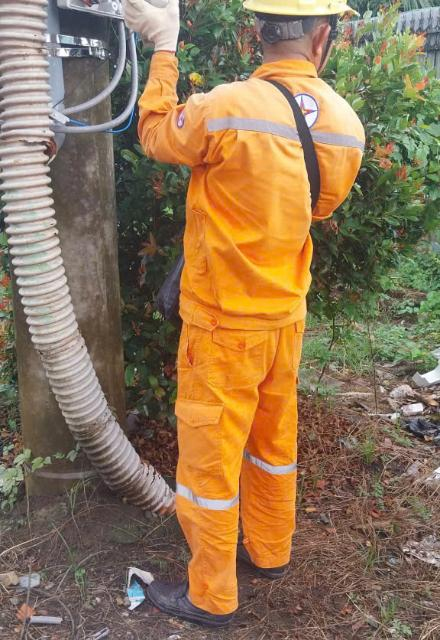gloves: (116, 0, 195, 64)
helmet: (231, 0, 371, 10)
shoes: (117, 562, 254, 630), (226, 517, 311, 582)
